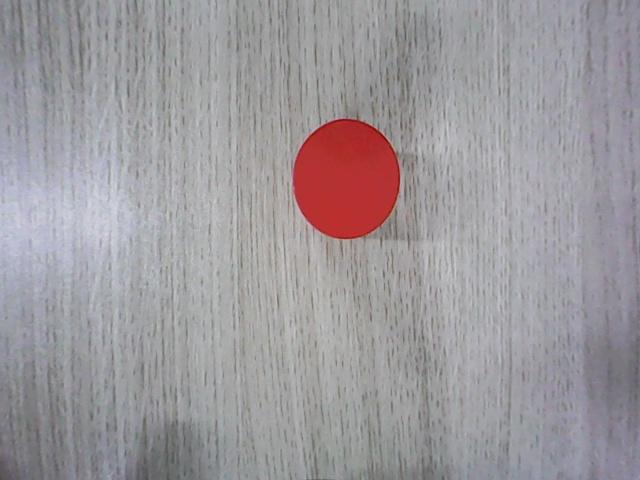upside of cylinder: (293, 119, 400, 240)
